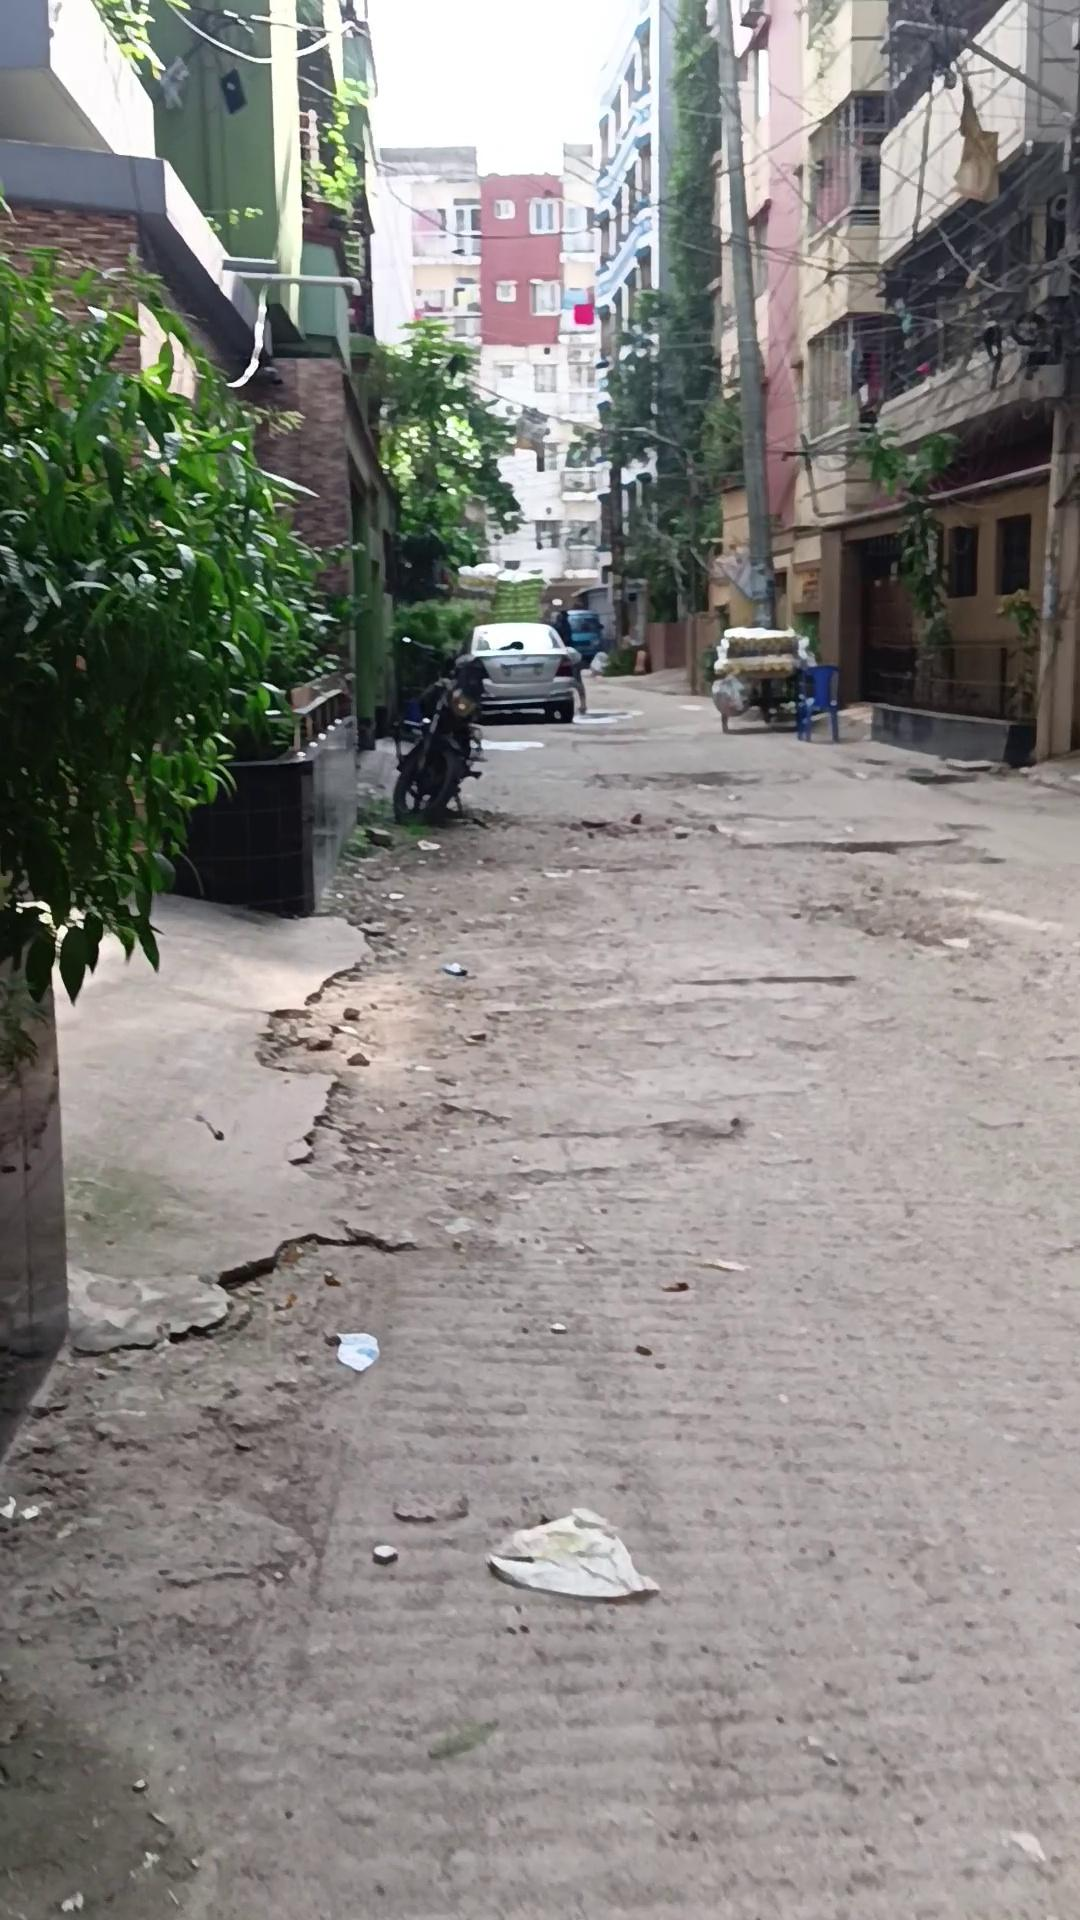Broken-road: (0, 673, 1080, 1920)
Car: (452, 621, 587, 723)
Crosswalk: (866, 699, 1033, 764)
Light-pole: (389, 636, 491, 825)
Obstacle: (709, 0, 777, 632)
Tree: (152, 675, 359, 919)
